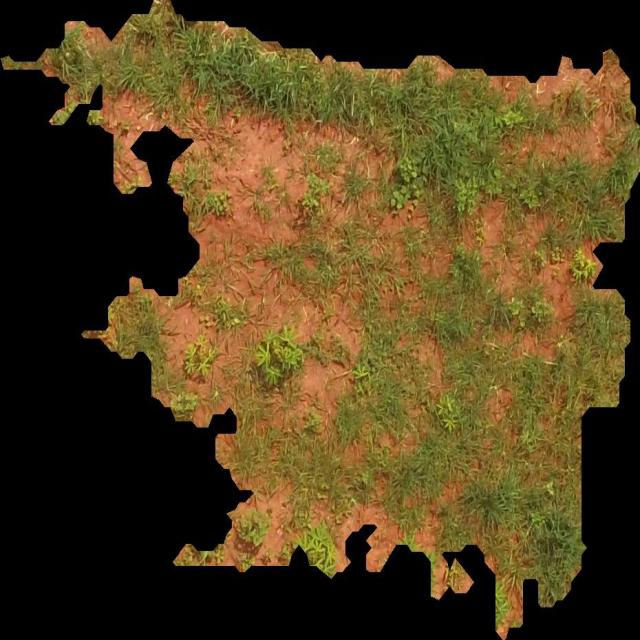Weed: (1, 0, 640, 640)
